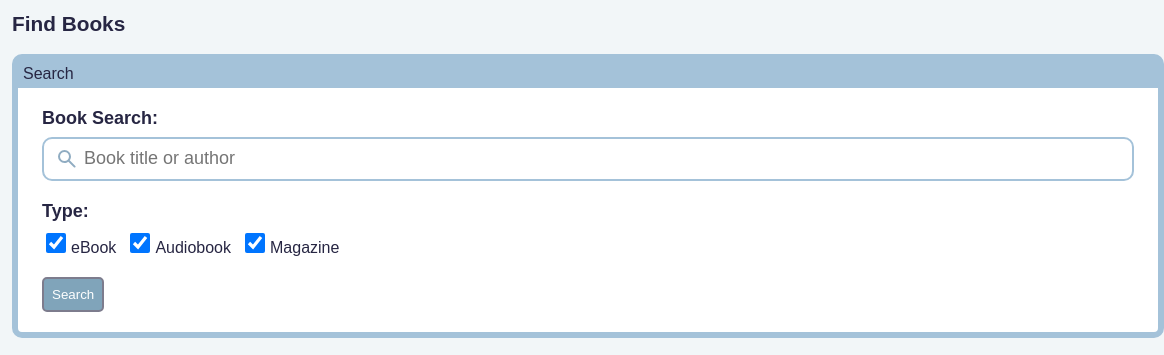
BookSearch › enables the search button when the search query is not empty
This screenshot has width=1164, height=355.
Type "Kurt Vonnegut" into the search field labelled "Book Search:" at (588, 158), box 42,136 -> 1134,180
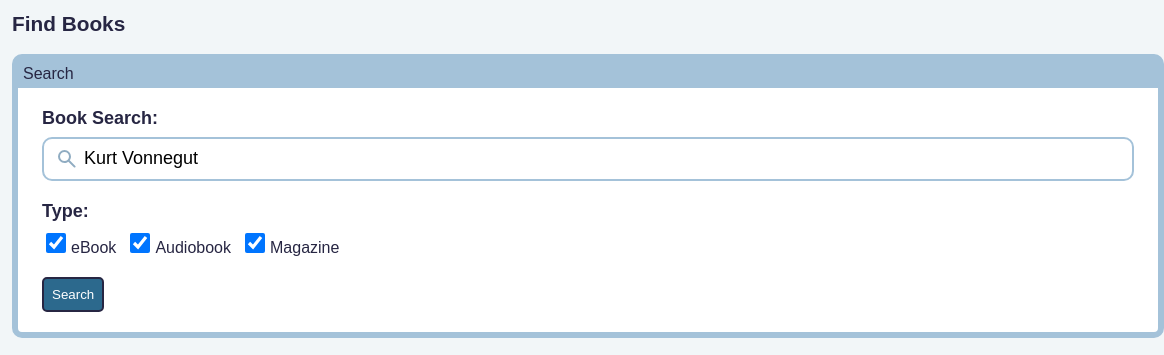
Result: the button "Search" is enabled at 42,276 -> 104,312
